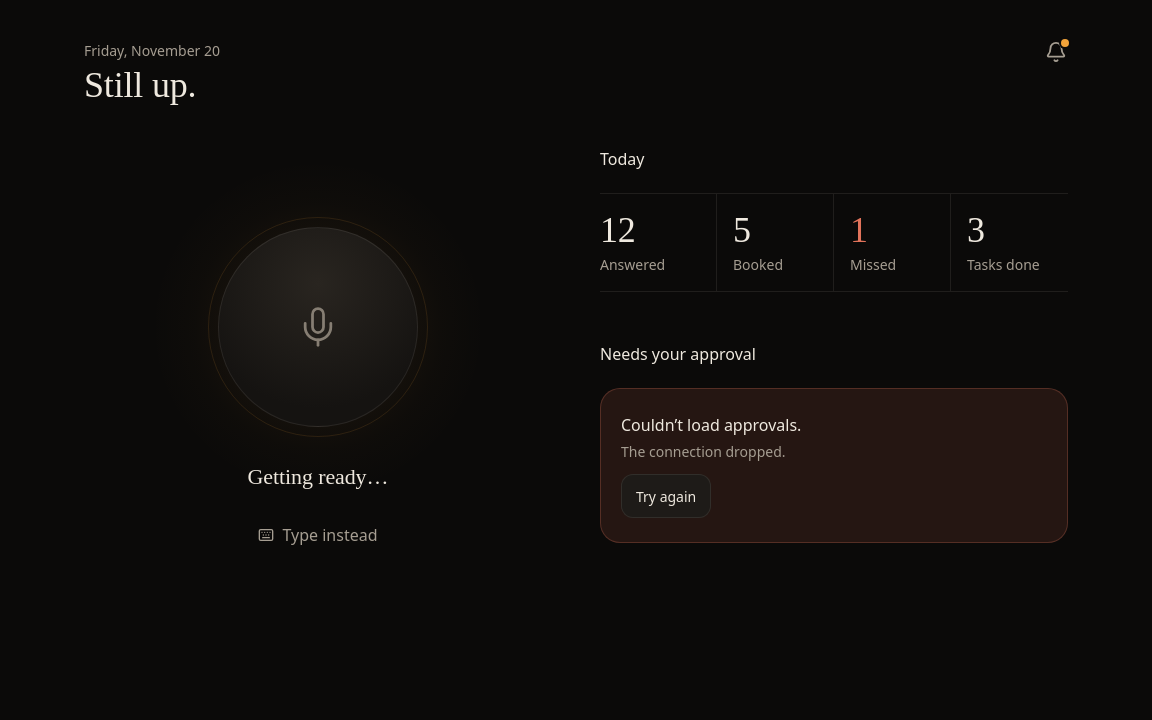
Test case: Needs your approval › says what went wrong and loads again on retry
Expected: the message shows "Couldn’t load approvals.", [621,414,801,436]
Expected: the message shows "The connection dropped.", [621,442,786,461]
Click the button "Try again": [666, 496] box [621,474,711,518]
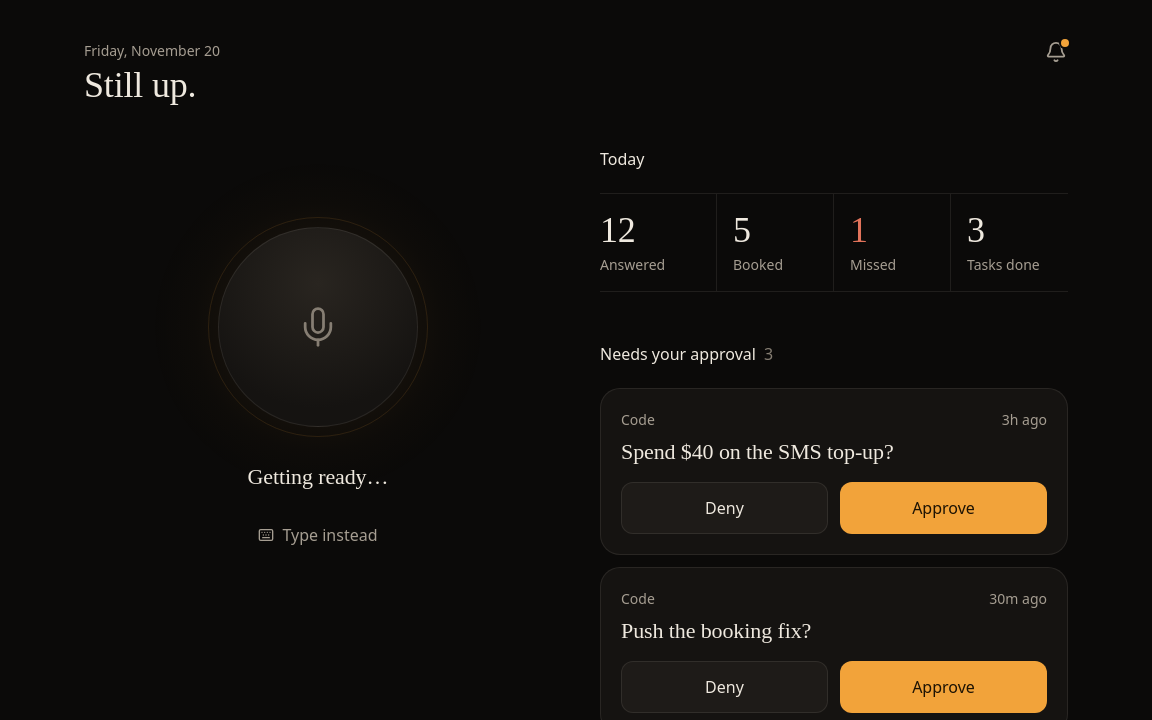
Result: the text "Push the booking fix?" is shown at [621,618,811,643]
